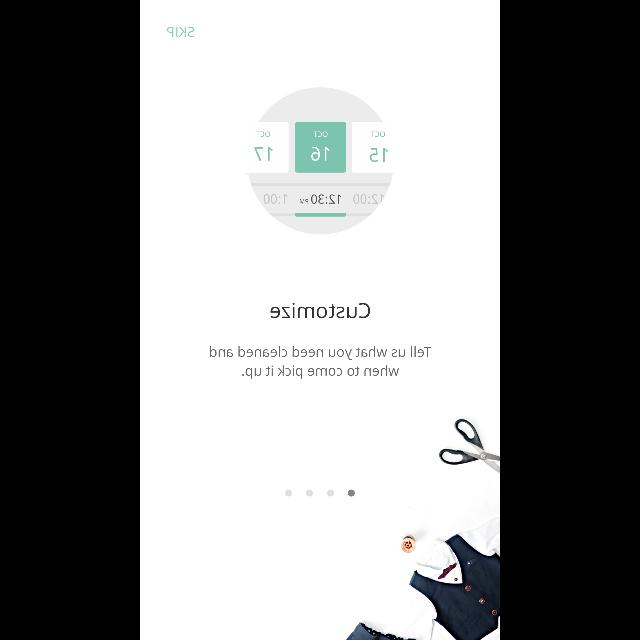image: (246, 87, 394, 235), (346, 500, 500, 640), (438, 418, 499, 474)
pageindicator: (285, 489, 355, 496)
text: (210, 346, 430, 379), (270, 303, 370, 319), (168, 27, 195, 37)
